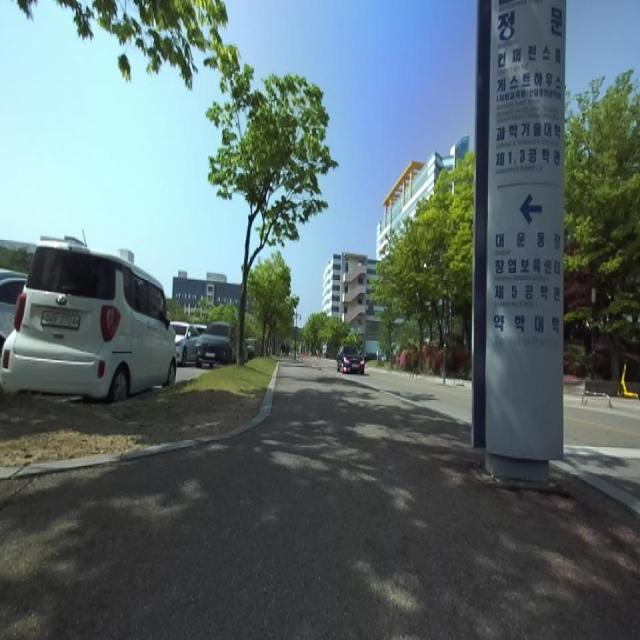sidewalk: (0, 361, 640, 639), (553, 462, 640, 513)
